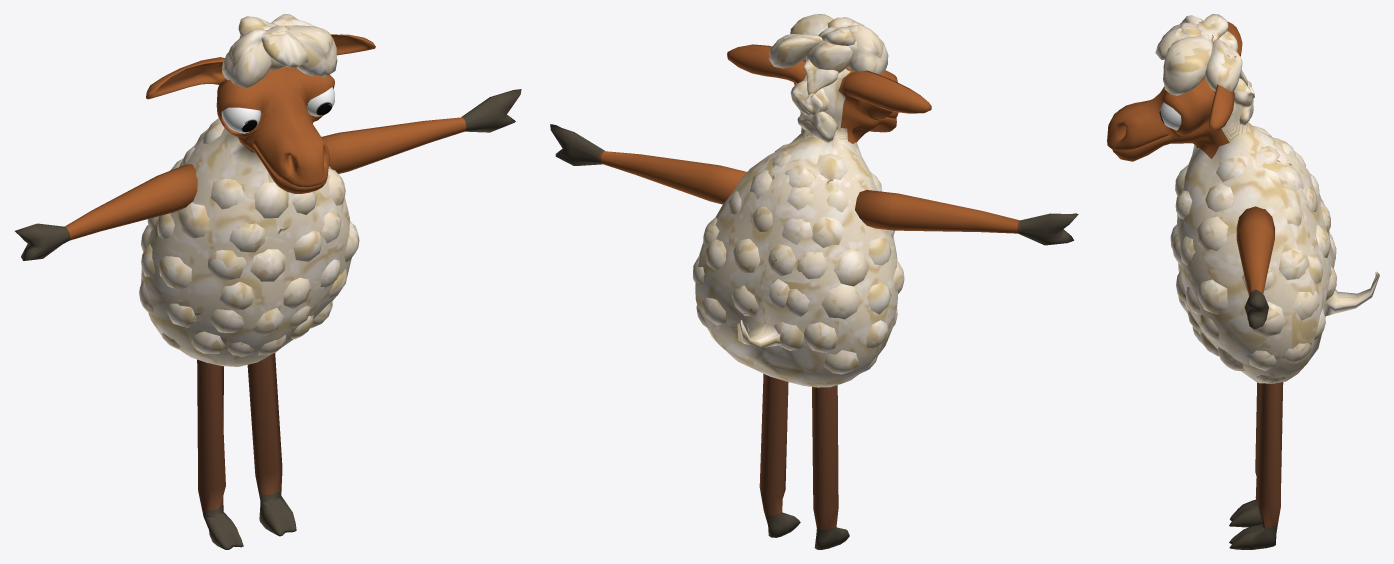
The model's file is sheep.fbx.
3 views of the same model, side by side, from view 1: azimuth 30°, elevation 25°; view 2: azimuth 150°, elevation 25°; view 3: azimuth 270°, elevation 25° (orthographic). The views are drawn at different scales.
Visible parts, largest first — view 1: G5F6150P2BTENFLDWZO4E2SBX.004; view 2: G5F6150P2BTENFLDWZO4E2SBX.004; view 3: G5F6150P2BTENFLDWZO4E2SBX.004.
Part boxes in pixels (box(x1,y1,x2,y2)): G5F6150P2BTENFLDWZO4E2SBX.004: box(15, 14, 521, 549); G5F6150P2BTENFLDWZO4E2SBX.004: box(550, 14, 1078, 549); G5F6150P2BTENFLDWZO4E2SBX.004: box(1107, 14, 1379, 549).
Bounding box in the file's own units: 391 × 372 × 181.
4 materials, 4 textured.
